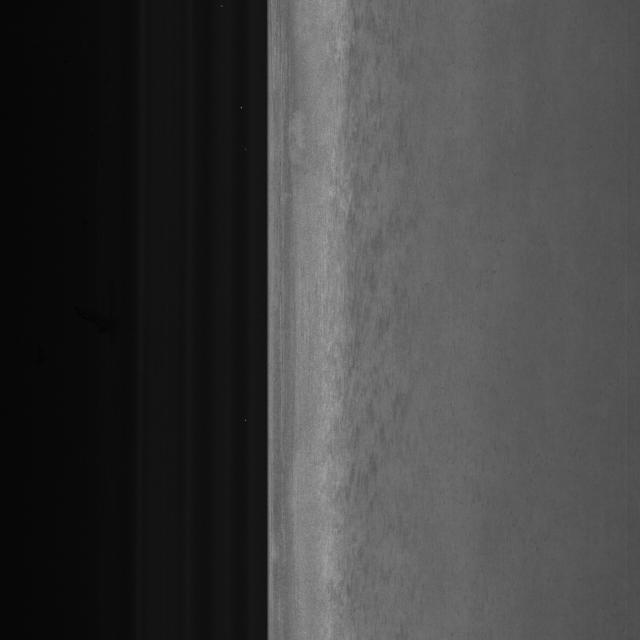inclusion: (342, 117, 404, 532)
